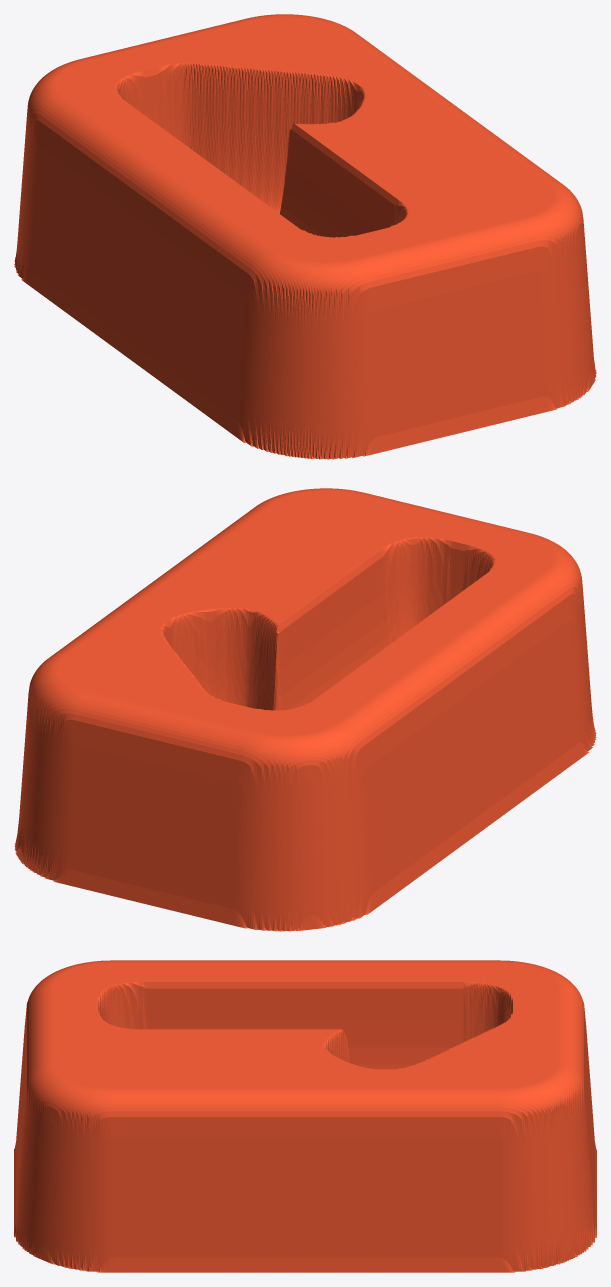
Rendered from mold.glb.
3 views of the same model, one above another, from view 1: azimuth 30°, elevation 25°; view 2: azimuth 150°, elevation 25°; view 3: azimuth 270°, elevation 25° (orthographic). The views are drawn at different scales.
Parts seen in each view (by area): view 1: geometry_0; view 2: geometry_0; view 3: geometry_0.
Boxes of the visible parts, x1,y1,x2,y2 form: geometry_0: (14, 14, 596, 459); geometry_0: (14, 488, 596, 931); geometry_0: (14, 960, 596, 1272).
Bounding box in the file's own units: 0.0348 × 0.0172 × 0.0542.
